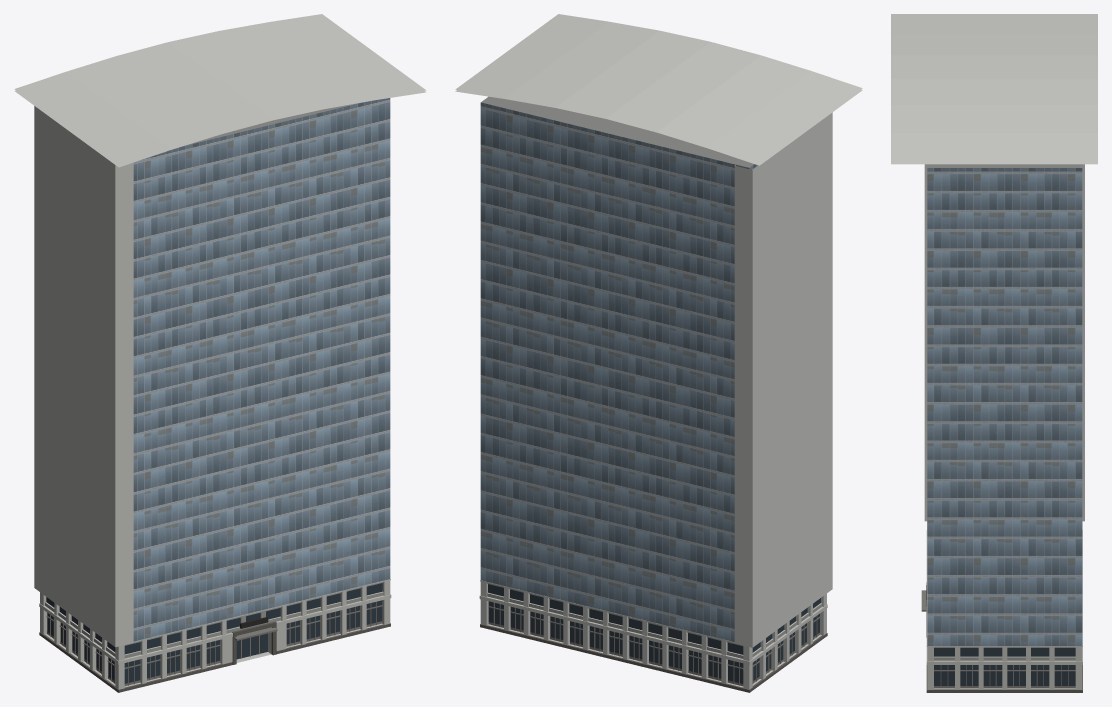
The model's file is us_courthouse.glb.
The picture shows the model from 3 angles, left to right: view 1: azimuth 30°, elevation 25°; view 2: azimuth 150°, elevation 25°; view 3: azimuth 270°, elevation 25°; orthographic projection.
Parts seen in each view (by area): view 1: us_courthouse; view 2: us_courthouse; view 3: us_courthouse.
Part boxes in pixels (x1,y1,x2,y2): us_courthouse: (14,14,426,692); us_courthouse: (455,14,862,692); us_courthouse: (891,14,1097,692).
Size of the model in its own units: 68.01 by 117 by 40.
2 materials, 2 textured.
